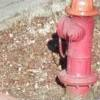Hydrant: (50, 4, 100, 98)
